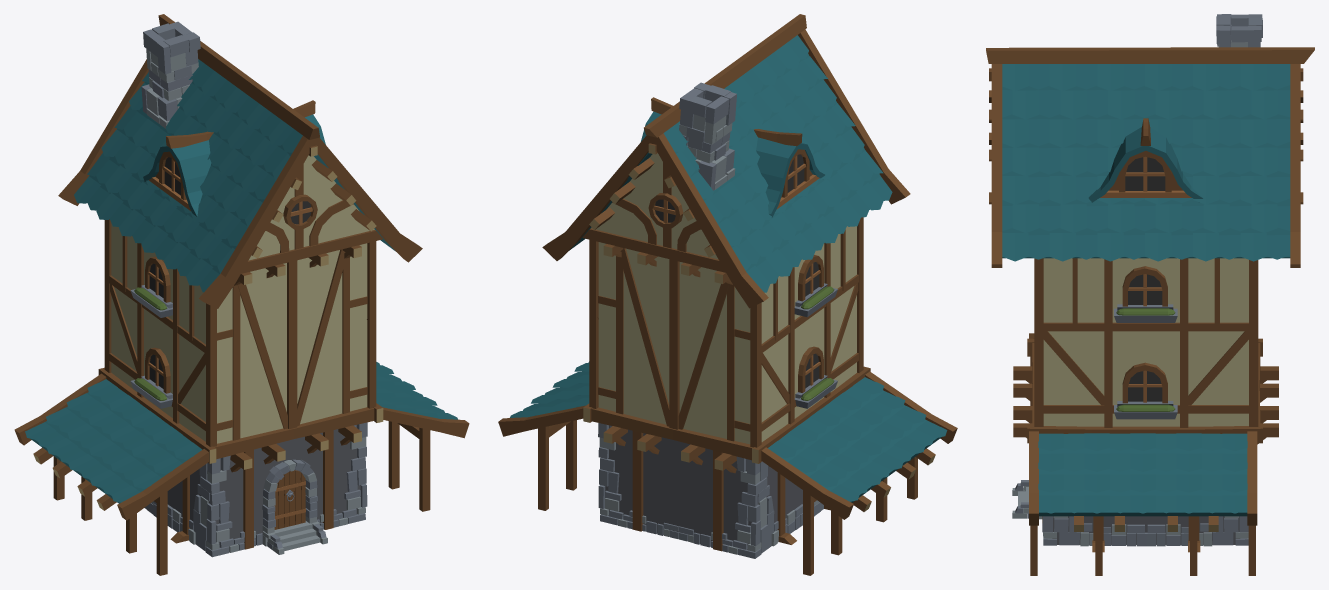
File: CasaGrandeModel.fbx
3 views of the same model, side by side, from view 1: azimuth 30°, elevation 25°; view 2: azimuth 150°, elevation 25°; view 3: azimuth 270°, elevation 25° (orthographic). The views are drawn at different scales.
Parts seen in each view (by area): view 1: Mill; view 2: Mill; view 3: Mill.
Boxes of the visible parts, x1,y1,x2,y2 form: Mill: (14, 14, 469, 575); Mill: (498, 14, 957, 575); Mill: (986, 14, 1314, 575).
Size of the model in its own units: 340 by 414 by 262.
